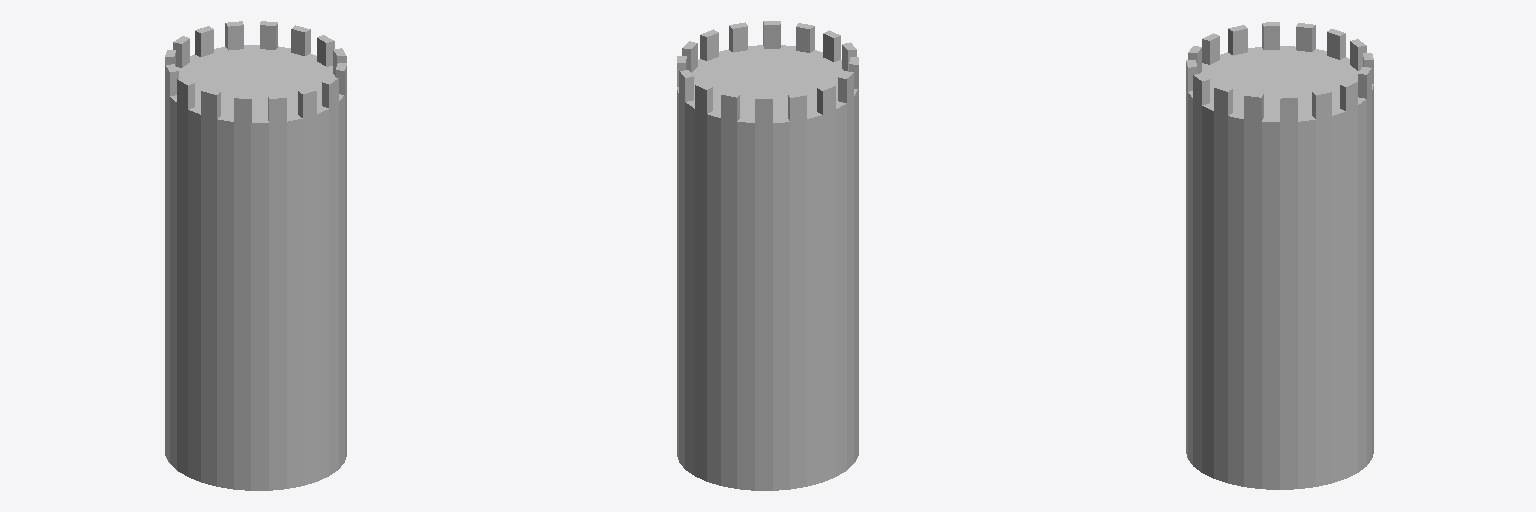
File: bastya.obj
3 renders of one model, left to right at view 1: azimuth 30°, elevation 25°; view 2: azimuth 150°, elevation 25°; view 3: azimuth 270°, elevation 25°, orthographic.
Parts seen in each view (by area): view 1: Cylinder; view 2: Cylinder; view 3: Cylinder.
Part boxes in pixels (x1,y1,x2,y2): Cylinder: (165, 21, 346, 490); Cylinder: (677, 21, 858, 490); Cylinder: (1186, 22, 1373, 489).
Bounding box in the file's own units: 0.8941 × 2.13 × 0.9264.